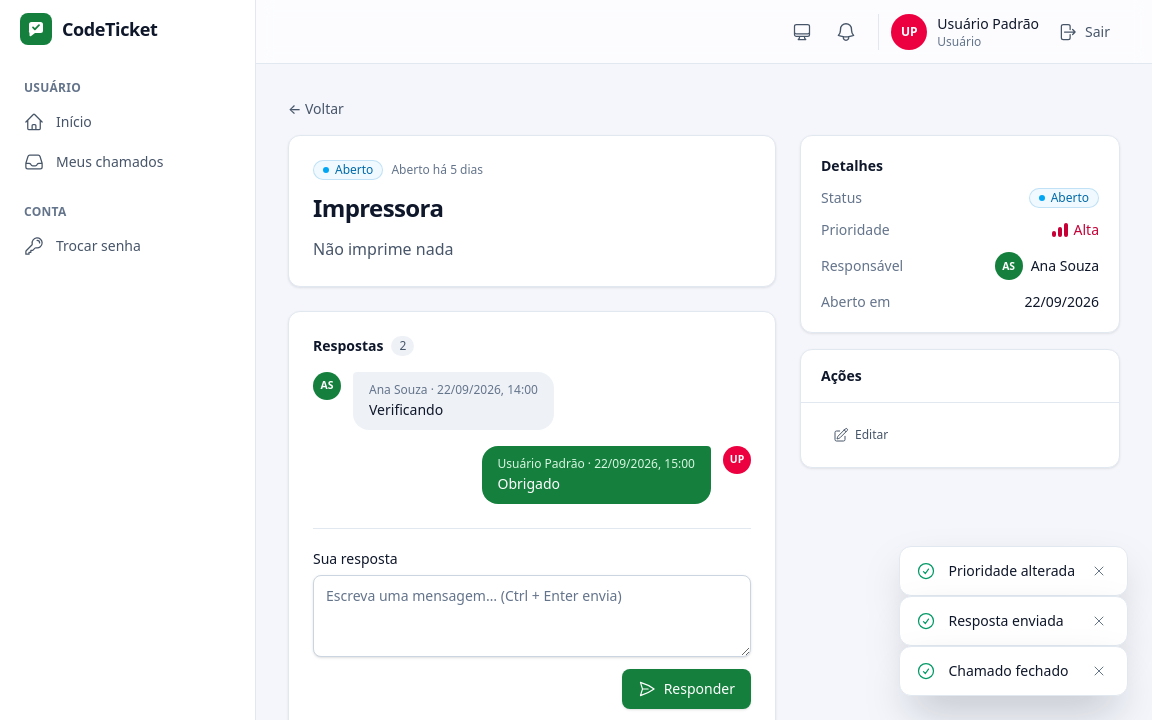
TicketDetailView › editing › opens the form with the current title and description and saves the changes
The image size is (1152, 720).
Expected: the heading "Impressora" is shown, [313,191,443,224]
Click the button "Editar" at (861, 435), box [821,419,900,451]
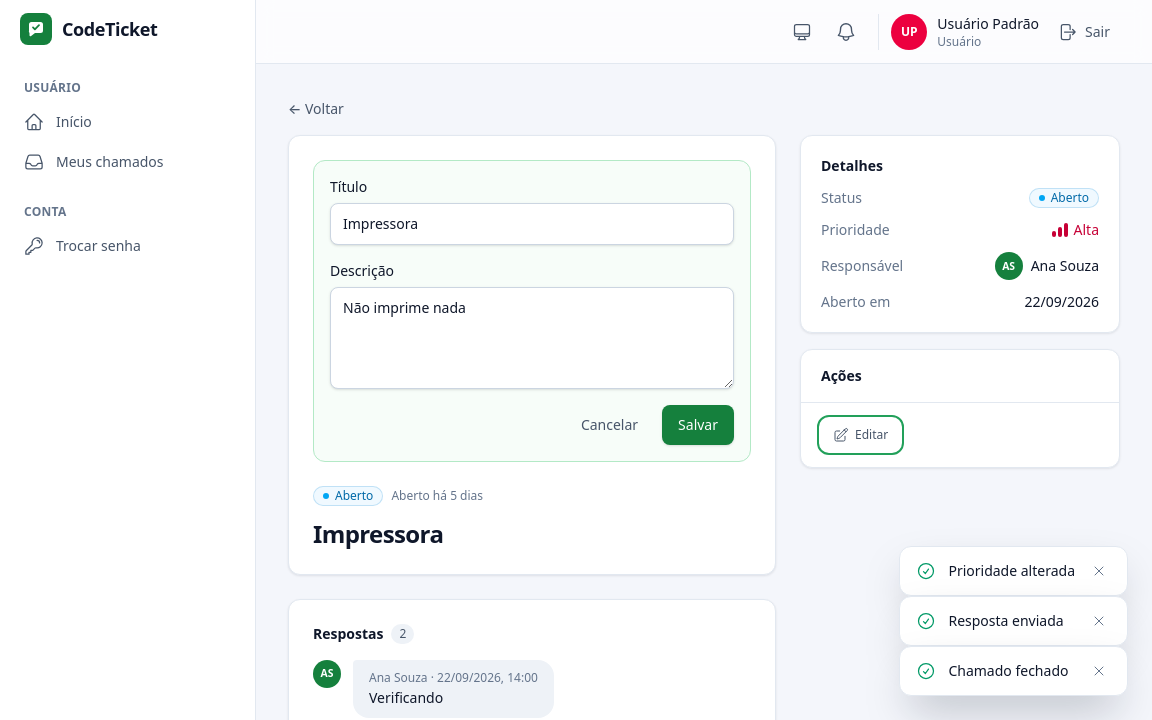
Expected: the field labelled "Título" holds "Impressora"
Expected: the text box labelled "Descrição" holds "Não imprime nada", [330,287,734,389]
Replace the text in the field labelled "Título" with "Impressora do 2º andar" at (532, 224), box [330,203,734,245]
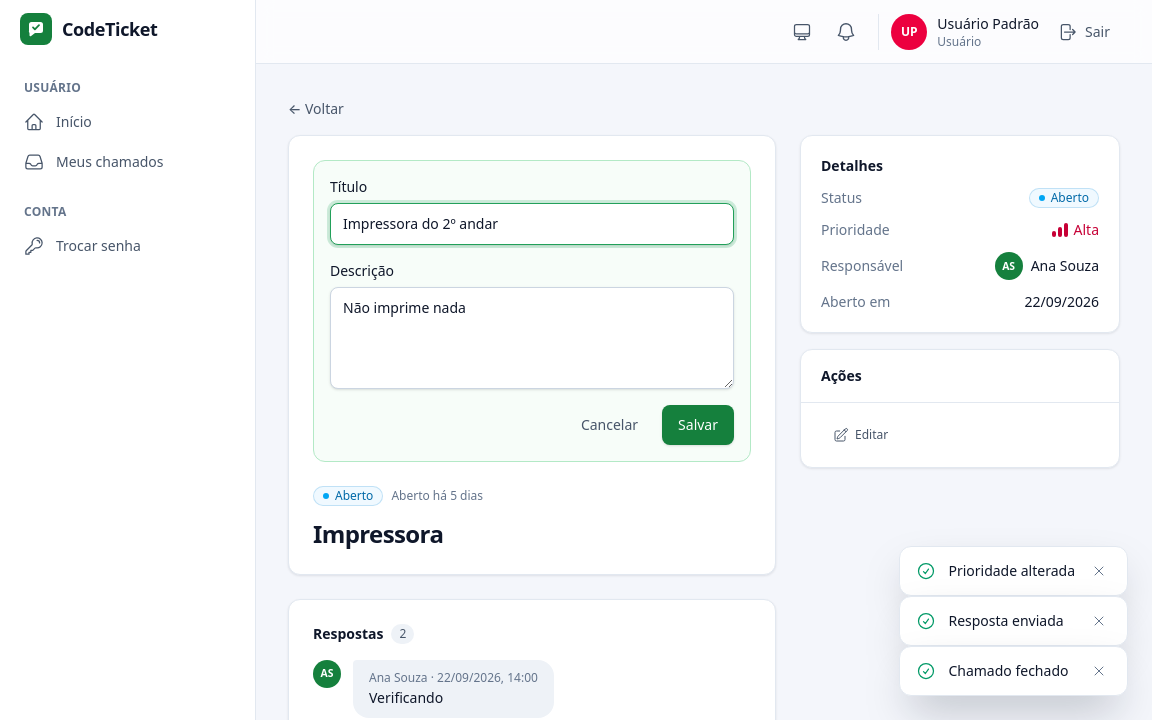
Click the button "Salvar" at (698, 425), box [662,405,734,445]
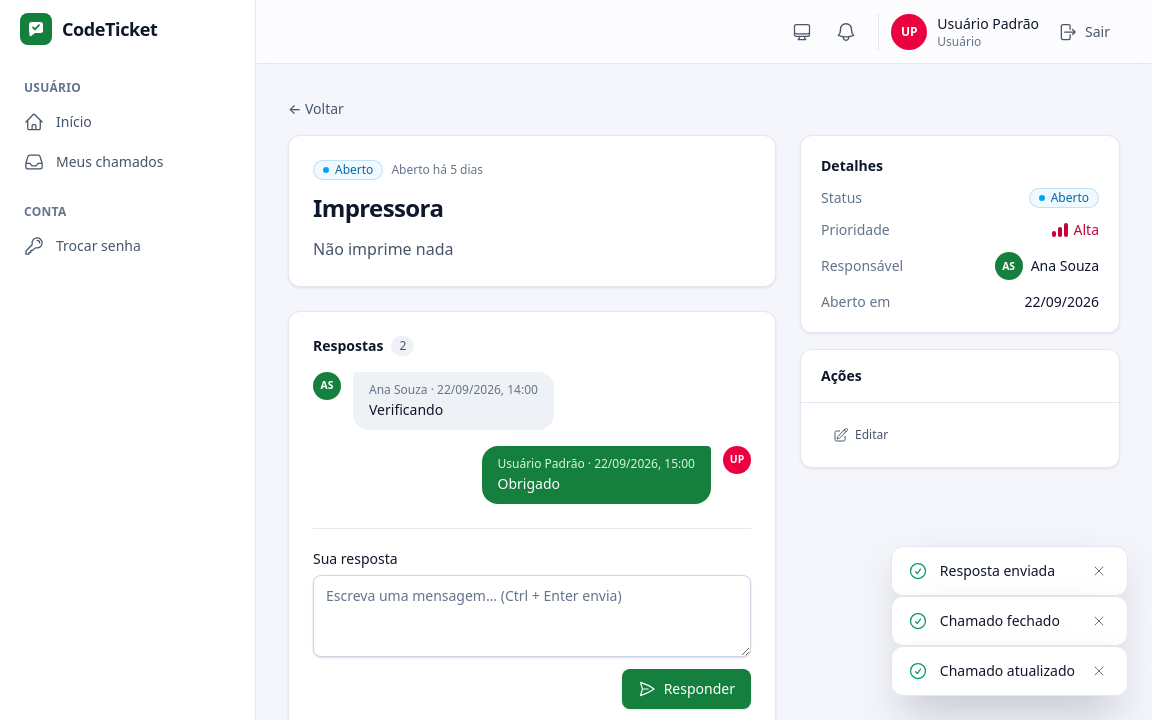
Expected: the button "Salvar" is gone
